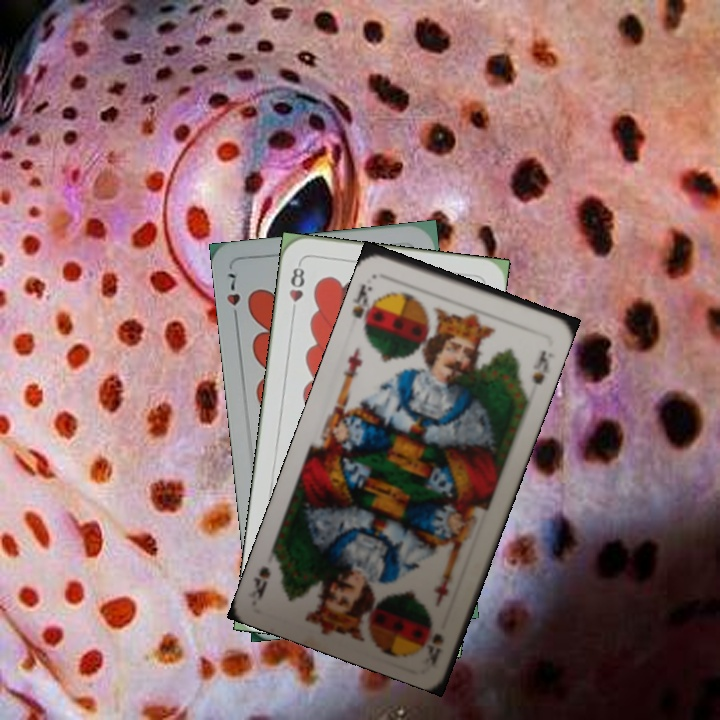H7: (222, 269, 243, 326)
H8: (285, 259, 307, 318)
SK: (348, 280, 381, 331), (421, 629, 446, 665)
